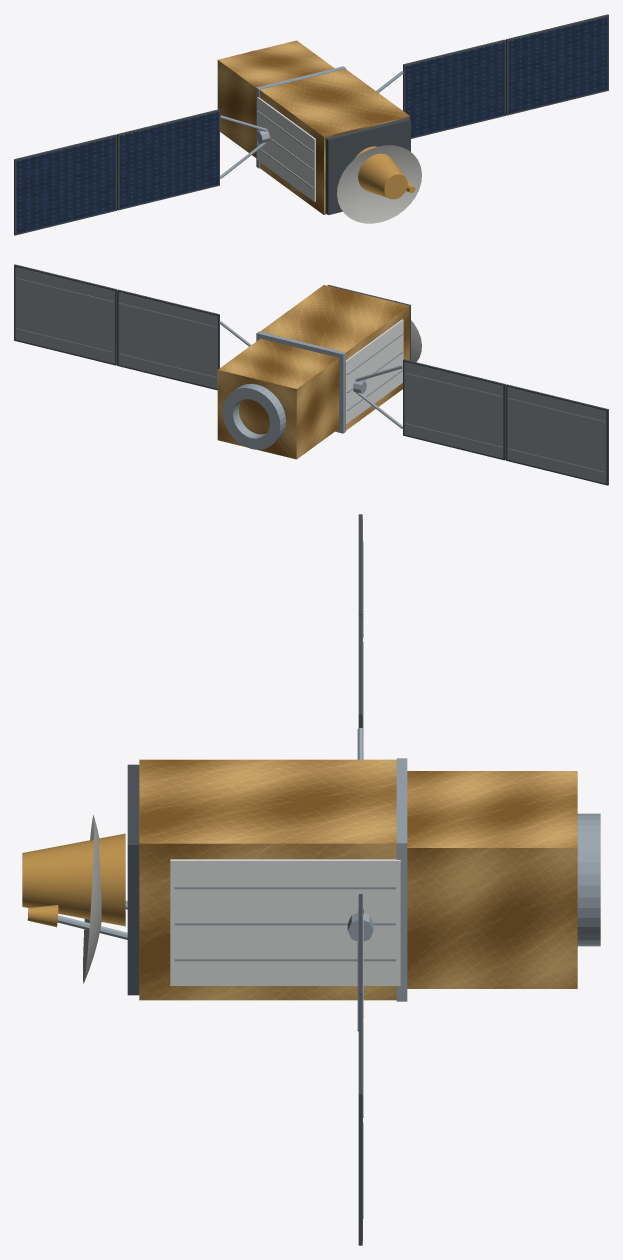
The model's file is ref-bs-2-14659.glb.
The picture shows the model from 3 angles, top to bottom: view 1: azimuth 30°, elevation 25°; view 2: azimuth 150°, elevation 25°; view 3: azimuth 270°, elevation 25°; orthographic projection. The views are drawn at different scales.
Parts seen in each view (by area): view 1: Solar cell panel (×4), Payload module, Service module, Deck-mounted reflector, Solar panel frame (×4), Radiator face, Earth-facing deck, Axial antenna horn, Module interface; view 2: Rear array substrate (×4), Service module, Payload module, Solar panel frame (×4), Radiator face, Launch adapter ring, Module interface, Deck-mounted reflector; view 3: Service module, Payload module, Radiator face, Axial antenna horn, Launch adapter ring, Earth-facing deck, Module interface, Deck-mounted reflector, Solar panel frame.
Part boxes in pixels (x1=…): Solar cell panel (×4): x1=16, y1=17, x2=607, y2=233; Payload module: x1=259, y1=69, x2=409, y2=214; Service module: x1=217, y1=40, x2=334, y2=157; Deck-mounted reflector: x1=337, y1=145, x2=421, y2=223; Solar panel frame (×4): x1=14, y1=14, x2=608, y2=235; Radiator face: x1=257, y1=97, x2=315, y2=201; Earth-facing deck: x1=325, y1=118, x2=410, y2=214; Axial antenna horn: x1=355, y1=146, x2=407, y2=199; Module interface: x1=256, y1=66, x2=345, y2=168; Rear array substrate (×4): x1=15, y1=267, x2=606, y2=483; Service module: x1=217, y1=338, x2=339, y2=459; Payload module: x1=260, y1=285, x2=409, y2=430; Solar panel frame (×4): x1=14, y1=264, x2=608, y2=485; Radiator face: x1=345, y1=319, x2=403, y2=424; Launch adapter ring: x1=222, y1=384, x2=285, y2=449; Module interface: x1=256, y1=331, x2=345, y2=433; Deck-mounted reflector: x1=411, y1=320, x2=421, y2=362; Service module: x1=407, y1=771, x2=577, y2=988; Payload module: x1=139, y1=759, x2=396, y2=1000; Radiator face: x1=170, y1=859, x2=400, y2=985; Axial antenna horn: x1=22, y1=833, x2=125, y2=926; Launch adapter ring: x1=577, y1=813, x2=600, y2=946; Earth-facing deck: x1=127, y1=764, x2=139, y2=995; Module interface: x1=396, y1=758, x2=407, y2=1001; Deck-mounted reflector: x1=83, y1=815, x2=101, y2=983; Solar panel frame: x1=358, y1=994, x2=362, y2=1245.
Size of the model in its own units: 8.98 by 1.25 by 3.79.
Materials: 8 (2 with a texture image).
